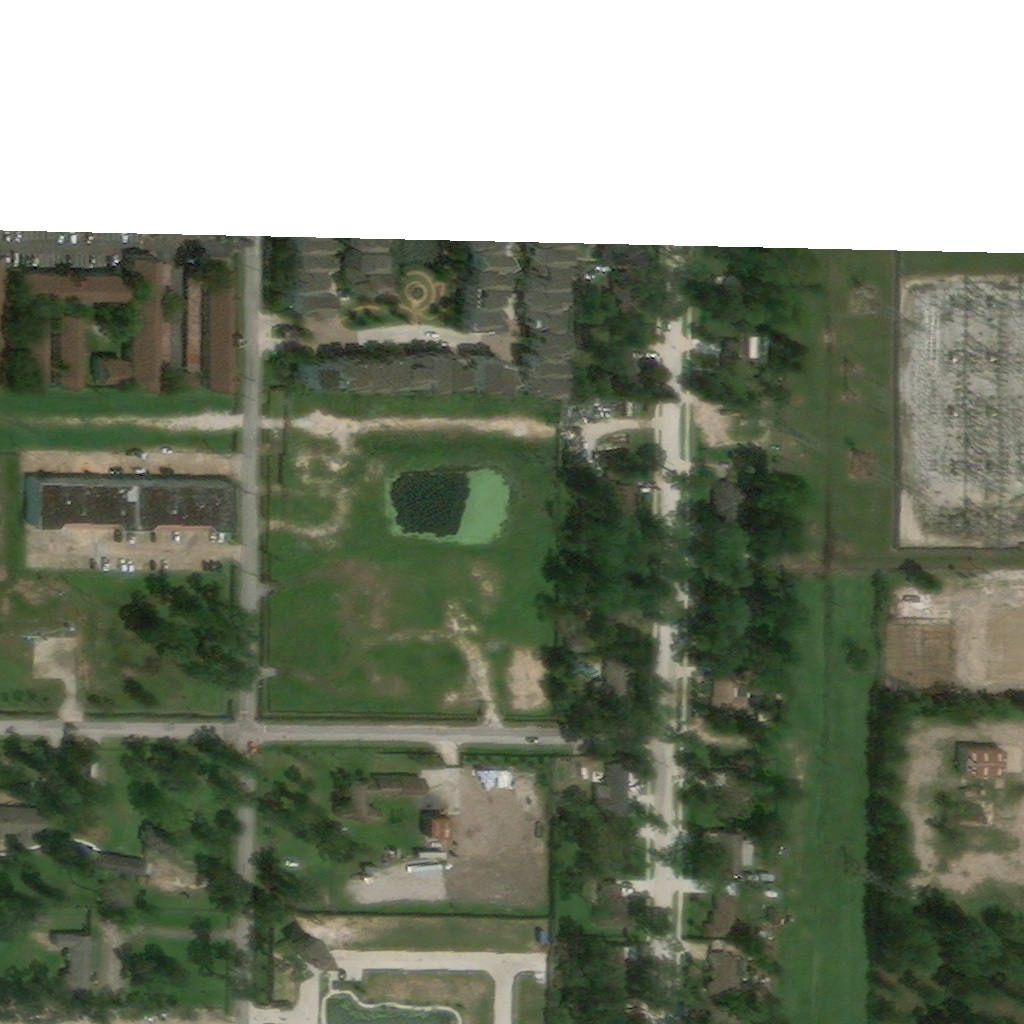no_damage: (100, 251, 161, 392), (32, 477, 135, 532), (132, 477, 231, 534), (160, 263, 200, 393), (522, 232, 561, 348), (338, 779, 429, 828), (18, 267, 127, 306), (203, 265, 235, 393), (57, 936, 98, 1007), (460, 275, 503, 331), (56, 309, 83, 391), (0, 808, 51, 851), (24, 305, 49, 389), (609, 469, 643, 528), (190, 266, 207, 379), (597, 767, 631, 823), (714, 772, 751, 823), (600, 883, 637, 933), (520, 346, 557, 396), (467, 343, 504, 392), (714, 609, 752, 655), (718, 832, 755, 877), (709, 897, 745, 943), (716, 485, 754, 526), (420, 815, 453, 862), (719, 275, 748, 328), (961, 743, 1006, 777), (712, 956, 747, 997), (344, 259, 382, 296), (595, 666, 634, 702), (596, 946, 628, 989), (288, 243, 326, 279), (717, 539, 751, 579), (613, 829, 641, 877), (343, 228, 381, 263), (617, 275, 643, 325), (287, 282, 326, 315), (100, 856, 151, 881), (299, 348, 329, 389), (618, 347, 644, 394), (327, 345, 356, 387), (600, 233, 638, 264), (147, 826, 180, 861), (751, 334, 789, 363), (397, 348, 423, 388), (438, 346, 459, 392), (715, 667, 741, 704), (606, 595, 635, 627), (356, 345, 378, 387), (377, 345, 398, 388), (422, 344, 439, 389), (763, 479, 789, 502), (465, 259, 500, 276), (764, 536, 783, 567), (465, 241, 498, 258), (288, 227, 323, 243), (715, 1009, 744, 1023), (572, 269, 590, 290), (464, 230, 496, 241), (559, 942, 574, 965), (282, 327, 300, 343), (771, 913, 782, 930), (39, 915, 51, 929), (92, 763, 100, 784), (755, 686, 767, 699), (774, 601, 783, 613)
